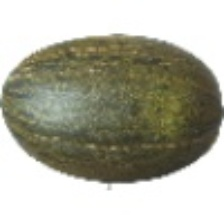honeydew: (23, 51, 209, 208)
